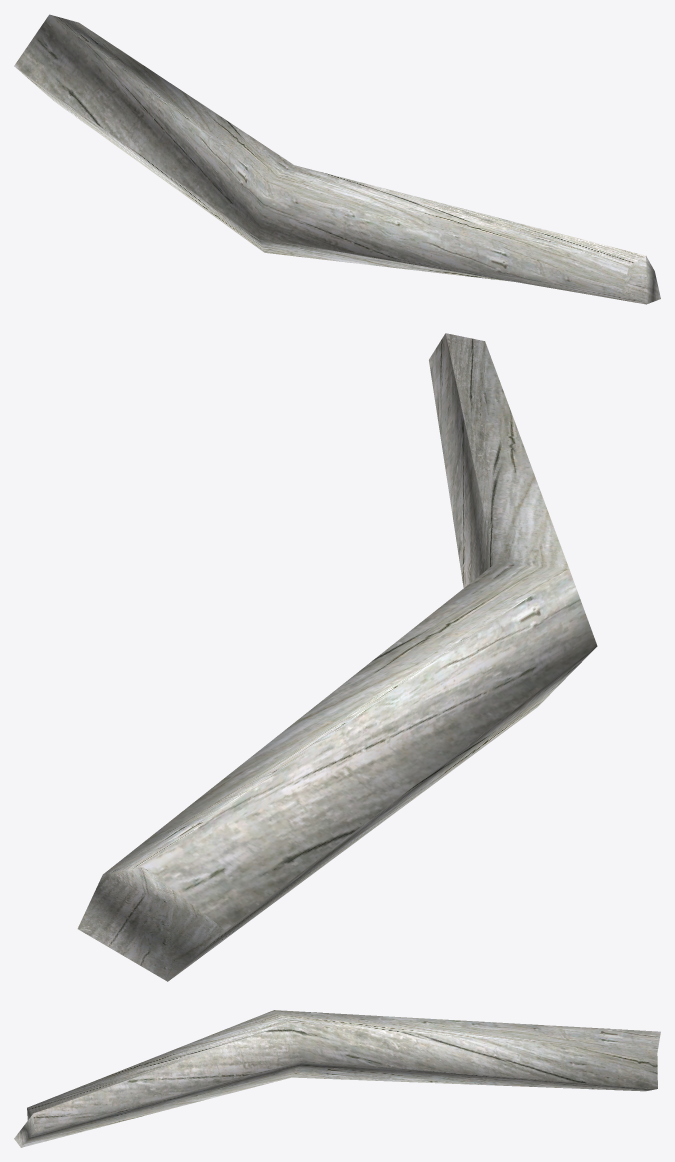
The model's file is shor_driftwood_smal_a1_l0.fbx.
The picture shows the model from 3 angles, top to bottom: view 1: azimuth 30°, elevation 25°; view 2: azimuth 150°, elevation 25°; view 3: azimuth 270°, elevation 25°; orthographic projection. The views are drawn at different scales.
Visible parts, largest first — view 1: mesh_node; view 2: mesh_node; view 3: mesh_node.
Part boxes in pixels (x1,y1,x2,y2): mesh_node: [14, 14, 660, 304]; mesh_node: [77, 333, 597, 981]; mesh_node: [14, 1010, 660, 1147].
Size of the model in its own units: 0.3292 by 0.1154 by 0.8995.
